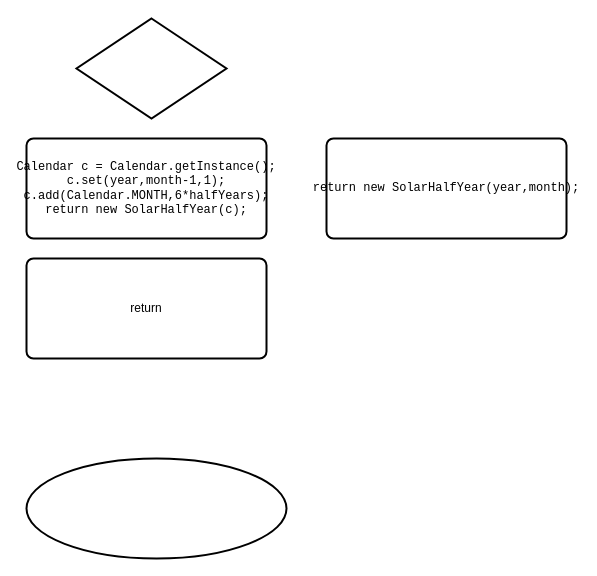
This 597x576 diagram has some shape labels left out. The shapes that lost their labels are listed below. From the top down, each one's box as (x1, y1, x2, y2) in pixels, then its label:
(75, 17, 227, 119): halfyear == 0?
(25, 457, 287, 559): start SolarHalfYear next( int halfYears)
